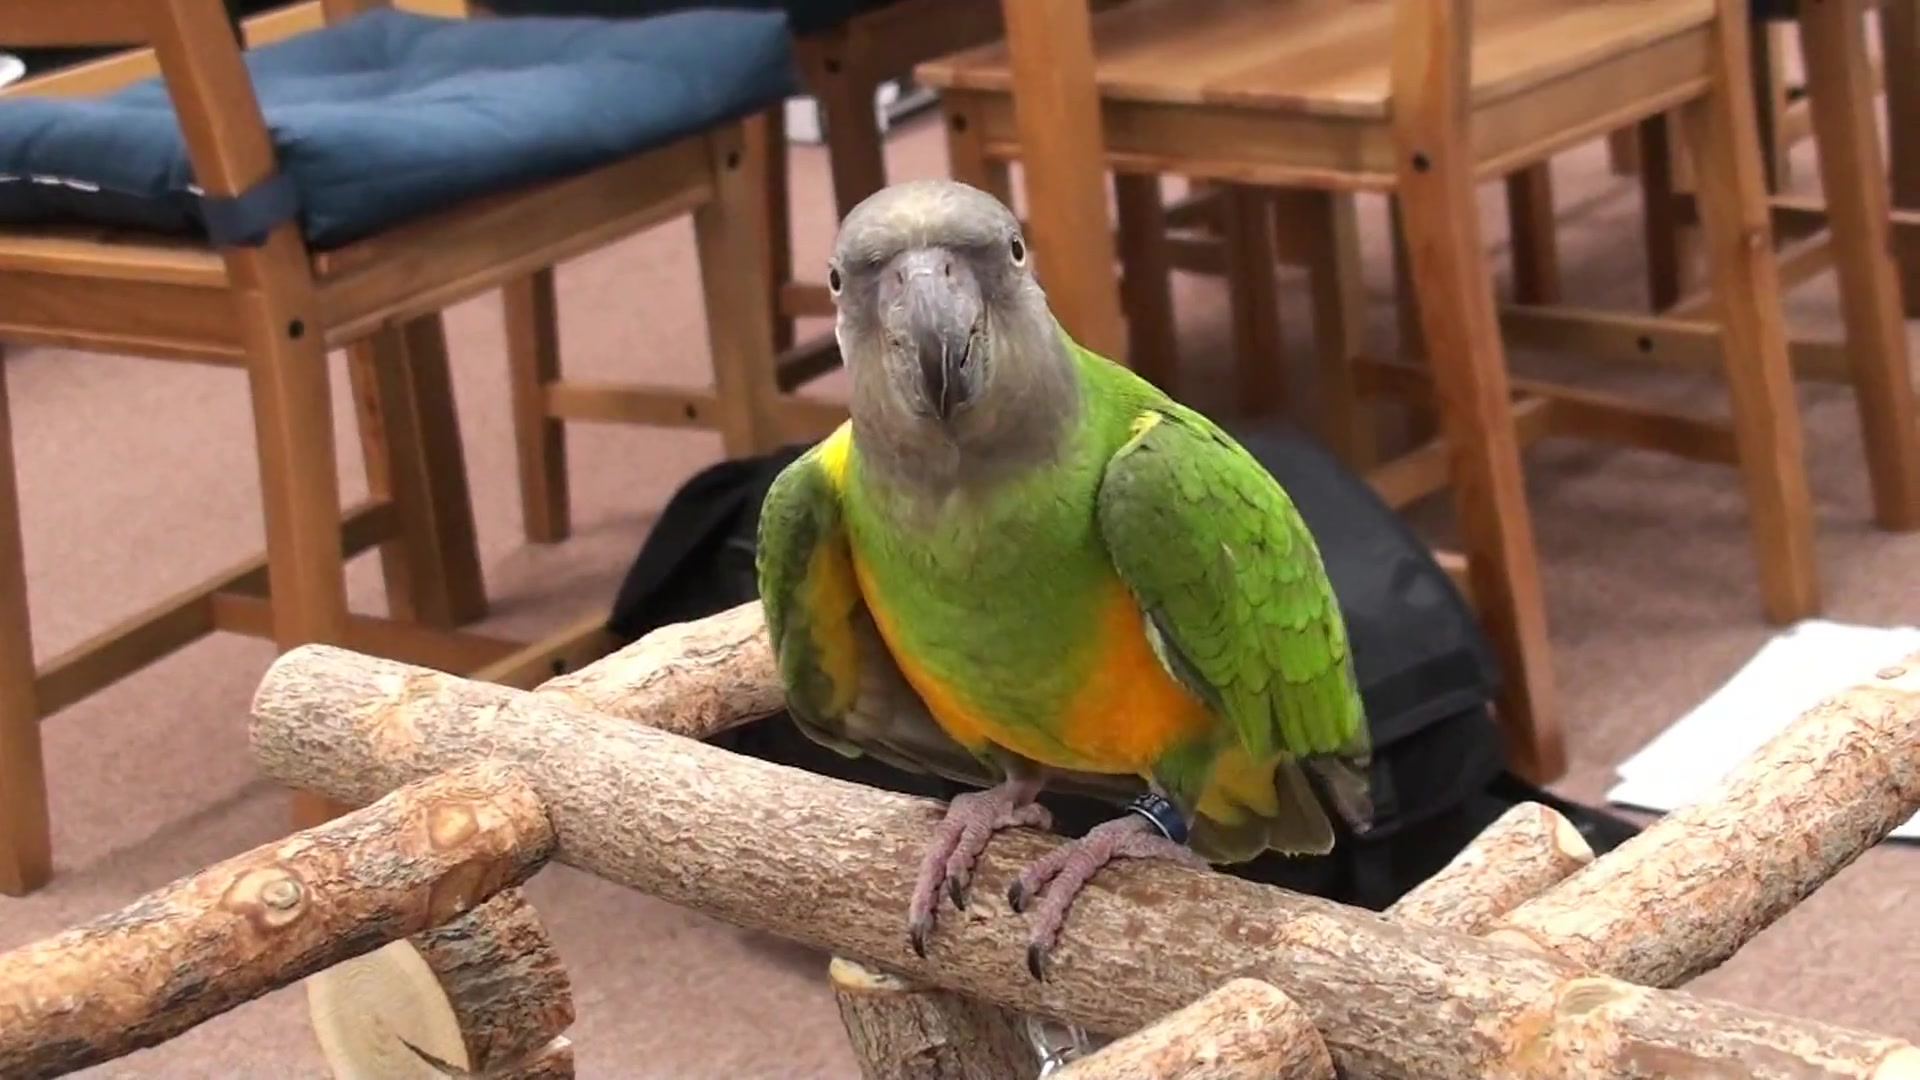bird: (756, 177, 1367, 986)
